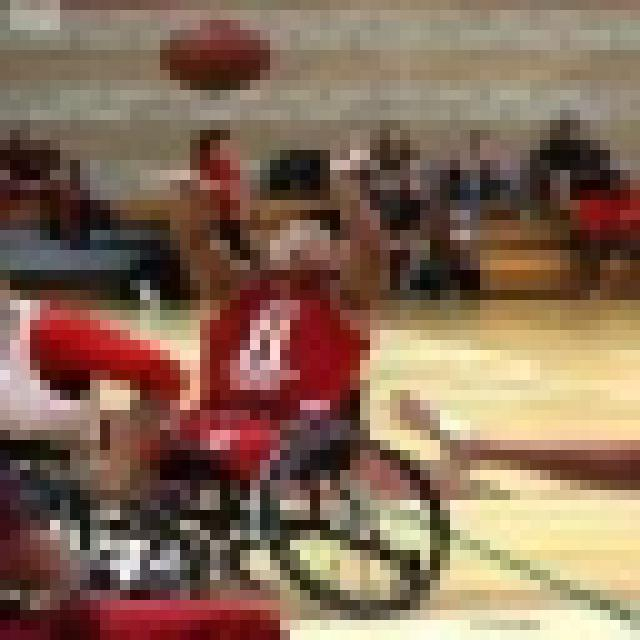wheelchairs: (83, 267, 456, 597)
